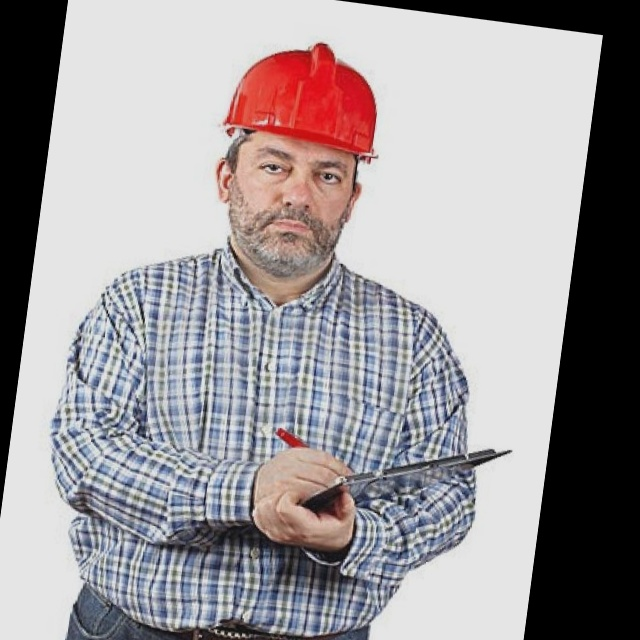Con_Casco: (208, 31, 391, 279)
